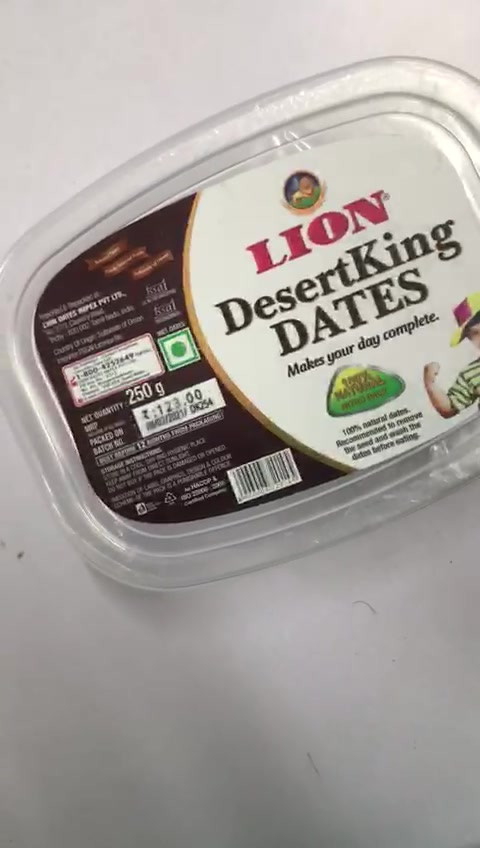Lion dates: (8, 54, 479, 589)
